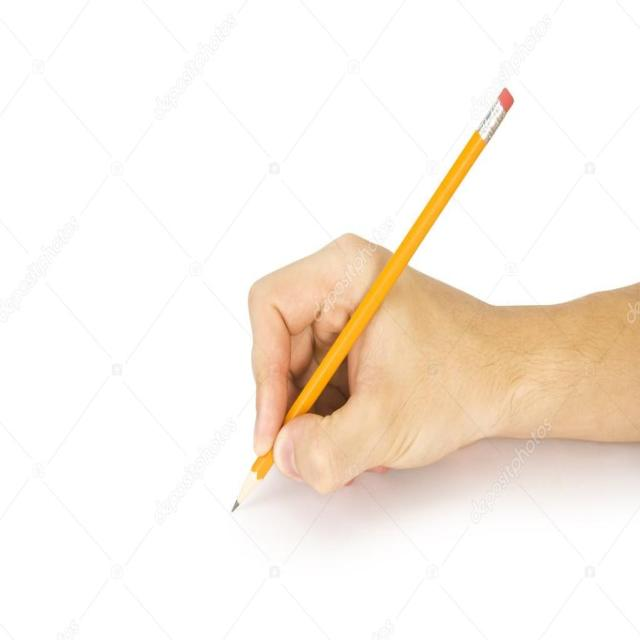pencil: (213, 70, 527, 538)
